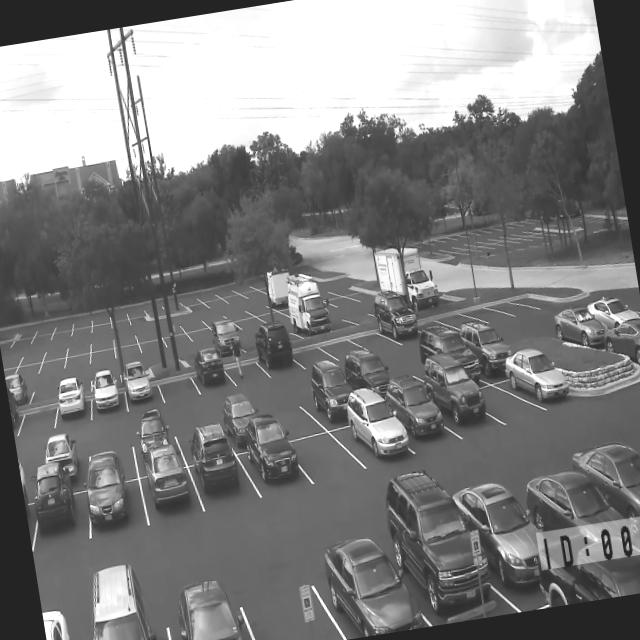car: (388, 492, 500, 630), (321, 533, 417, 640), (470, 481, 546, 601), (538, 467, 616, 557), (579, 452, 640, 566), (551, 546, 640, 605), (343, 402, 410, 474), (163, 591, 259, 640), (82, 476, 150, 543), (192, 452, 256, 517), (434, 375, 495, 443), (30, 488, 94, 552), (140, 466, 203, 531), (245, 440, 308, 504), (510, 356, 574, 418), (34, 438, 91, 494), (81, 607, 177, 640), (131, 418, 183, 476), (306, 374, 356, 433), (254, 330, 302, 386), (218, 398, 266, 452), (338, 348, 392, 396), (190, 347, 233, 400), (122, 366, 164, 415), (427, 324, 472, 368), (382, 308, 424, 351), (54, 391, 96, 432), (90, 384, 130, 424), (468, 321, 503, 366), (294, 302, 330, 341), (43, 615, 92, 640), (210, 319, 240, 352)
free: (236, 563, 348, 640), (294, 426, 356, 489), (254, 390, 318, 446), (171, 408, 230, 463), (84, 438, 140, 487), (482, 377, 534, 429), (157, 362, 200, 408), (232, 346, 270, 394), (16, 400, 60, 440), (290, 336, 332, 376), (28, 374, 63, 406), (349, 324, 386, 354), (321, 297, 347, 334), (264, 308, 294, 336), (110, 320, 138, 348), (88, 324, 115, 352), (132, 315, 158, 343), (106, 358, 130, 388), (67, 328, 94, 354), (235, 312, 262, 336), (65, 350, 93, 371), (164, 334, 193, 354), (40, 356, 68, 376), (138, 341, 170, 358), (114, 344, 142, 361), (182, 314, 206, 333), (18, 351, 44, 366), (190, 327, 214, 343), (92, 348, 115, 364), (185, 298, 208, 314), (2, 351, 20, 370), (52, 318, 72, 334), (92, 312, 111, 328), (224, 308, 249, 320), (44, 348, 68, 360), (242, 289, 266, 301), (16, 324, 35, 339), (223, 292, 244, 305), (36, 321, 54, 336), (205, 298, 227, 310), (235, 282, 254, 295), (202, 314, 226, 324), (72, 327, 93, 338), (0, 327, 15, 342), (72, 317, 92, 328), (54, 331, 72, 343), (34, 333, 51, 344), (128, 307, 146, 317), (218, 288, 236, 297), (199, 294, 219, 302), (112, 312, 128, 321)
